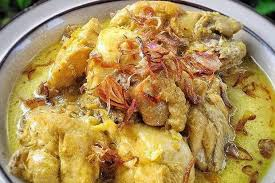Opor ayam: (6, 0, 275, 183)
